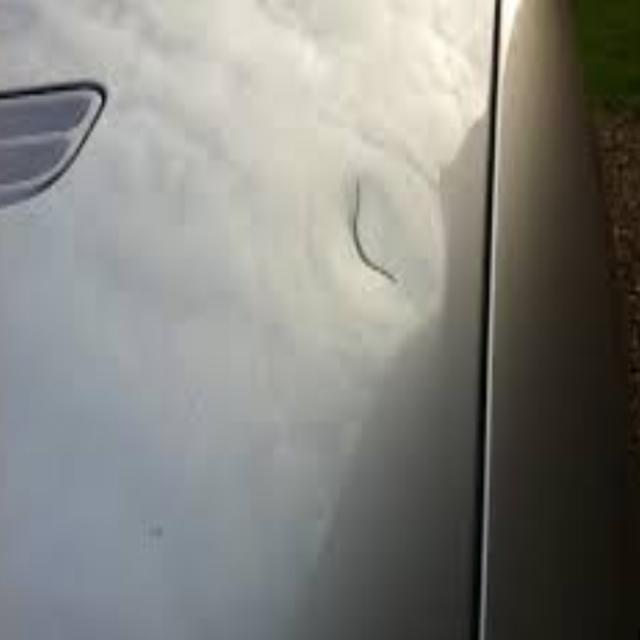dents: (306, 124, 426, 333)
